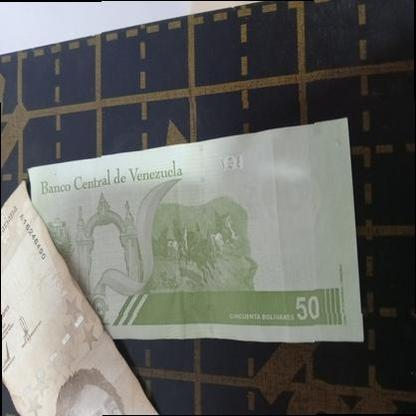fifty-back-vef: (26, 116, 364, 341)
